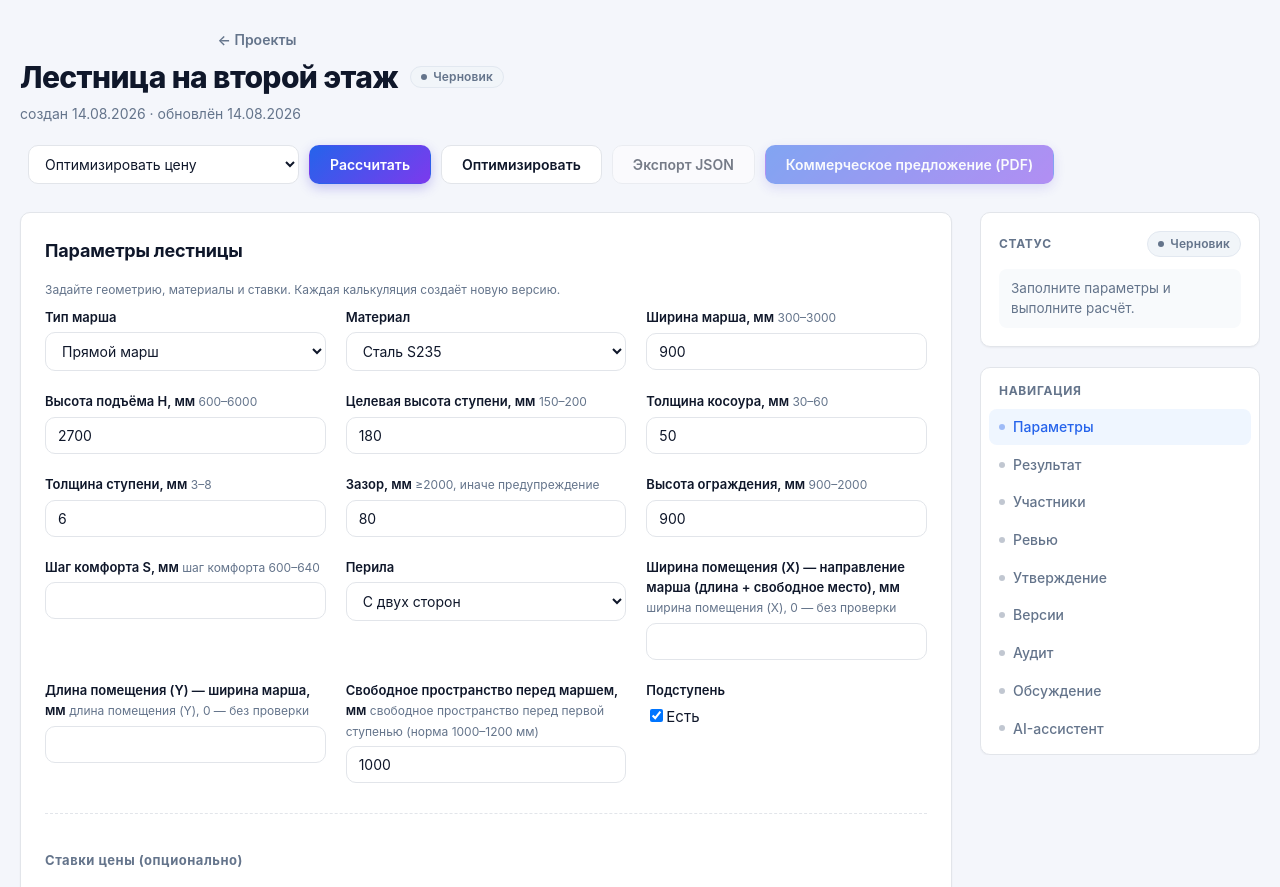
ProjectDetail › показывает только поля, относящиеся к типу L
The image size is (1280, 887).
Expected: the heading "Лестница на второй этаж Черновик" is shown, [20,59,504,95]
Select "L-образная (с площадкой)" in the dropdown labelled "Тип марша" at (185, 352), box [45,332,326,371]
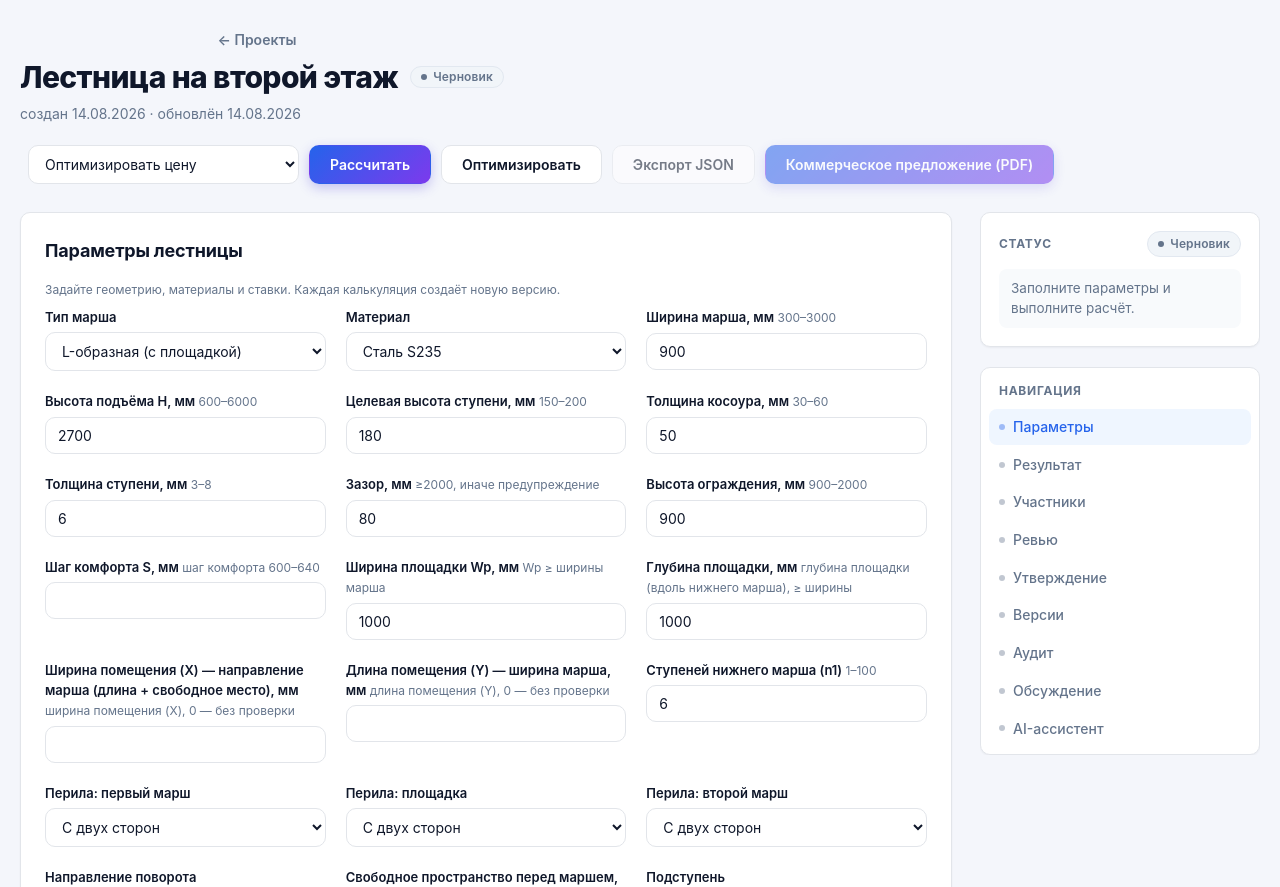
Result: the number field labelled "Ширина площадки Wp, мм Wp ≥ ширины марша" is shown at [346,603,626,640]
Result: the number field labelled "Ступеней нижнего марша (n1) 1–100" is shown at [646,685,927,722]
